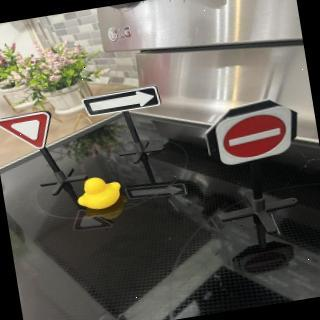duck_regular: (75, 173, 127, 215)
sign_noentry: (212, 105, 301, 169)
sign_oneway_right: (82, 85, 165, 119)
sign_yield: (1, 108, 64, 157)
